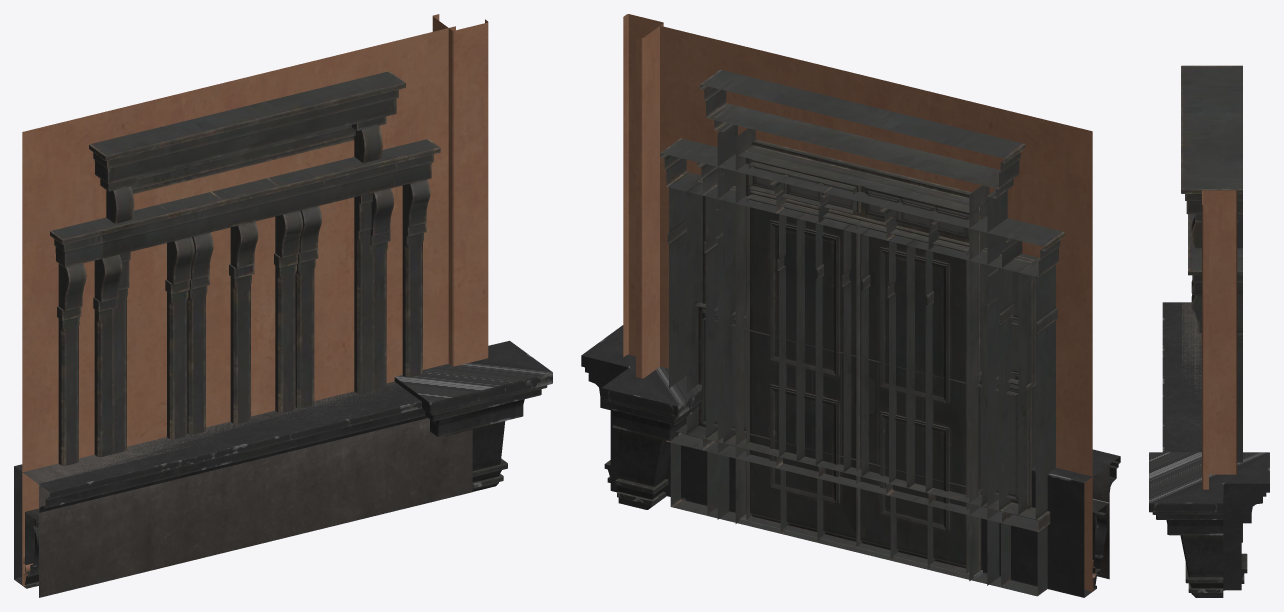
Rendered from kit_apartments.glb.
3 views of the same model, side by side, from view 1: azimuth 30°, elevation 25°; view 2: azimuth 150°, elevation 25°; view 3: azimuth 270°, elevation 25° (orthographic). The views are drawn at different scales.
Visible parts, largest first — view 1: door, plain, shop, large, small, offset, crown, pier, crown_pier, double; view 2: door, shop, large, pier, crown_pier, crown, small, double, offset, plain; view 3: crown_pier, pier, door, crown, shop, plain, offset, large.
Boxes of the visible parts, bbox=[...] form: door: bbox=[22, 26, 472, 597]; plain: bbox=[22, 67, 472, 597]; shop: bbox=[22, 78, 440, 507]; large: bbox=[22, 59, 443, 585]; small: bbox=[22, 96, 423, 531]; offset: bbox=[22, 103, 448, 508]; crown: bbox=[14, 382, 427, 588]; pier: bbox=[432, 14, 488, 366]; crown_pier: bbox=[394, 340, 552, 491]; double: bbox=[23, 59, 429, 586]; door: bbox=[660, 49, 1092, 591]; shop: bbox=[652, 24, 1109, 596]; large: bbox=[653, 25, 1096, 590]; pier: bbox=[623, 14, 663, 378]; crown_pier: bbox=[581, 325, 701, 509]; crown: bbox=[662, 433, 1120, 597]; small: bbox=[656, 28, 1088, 568]; double: bbox=[654, 26, 1095, 590]; offset: bbox=[660, 58, 1089, 542]; plain: bbox=[652, 24, 1092, 366]; crown_pier: bbox=[1149, 452, 1269, 597]; pier: bbox=[1202, 190, 1237, 489]; door: bbox=[1181, 65, 1242, 542]; crown: bbox=[1162, 302, 1201, 452]; shop: bbox=[1188, 214, 1242, 462]; plain: bbox=[1182, 302, 1201, 388]; offset: bbox=[1188, 221, 1242, 342]; large: bbox=[1188, 214, 1242, 294].
Bounding box in the file's own units: 3.43 × 3.06 × 0.855.
5 materials, 5 textured.
